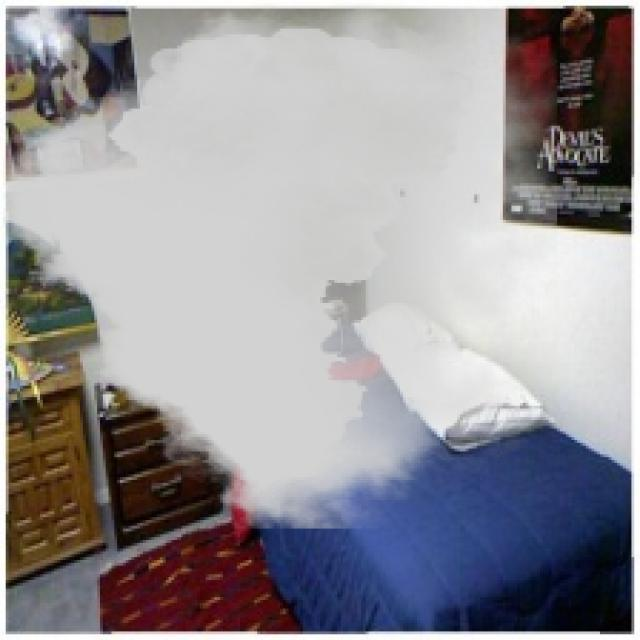Smoke: (2, 2, 558, 528)
